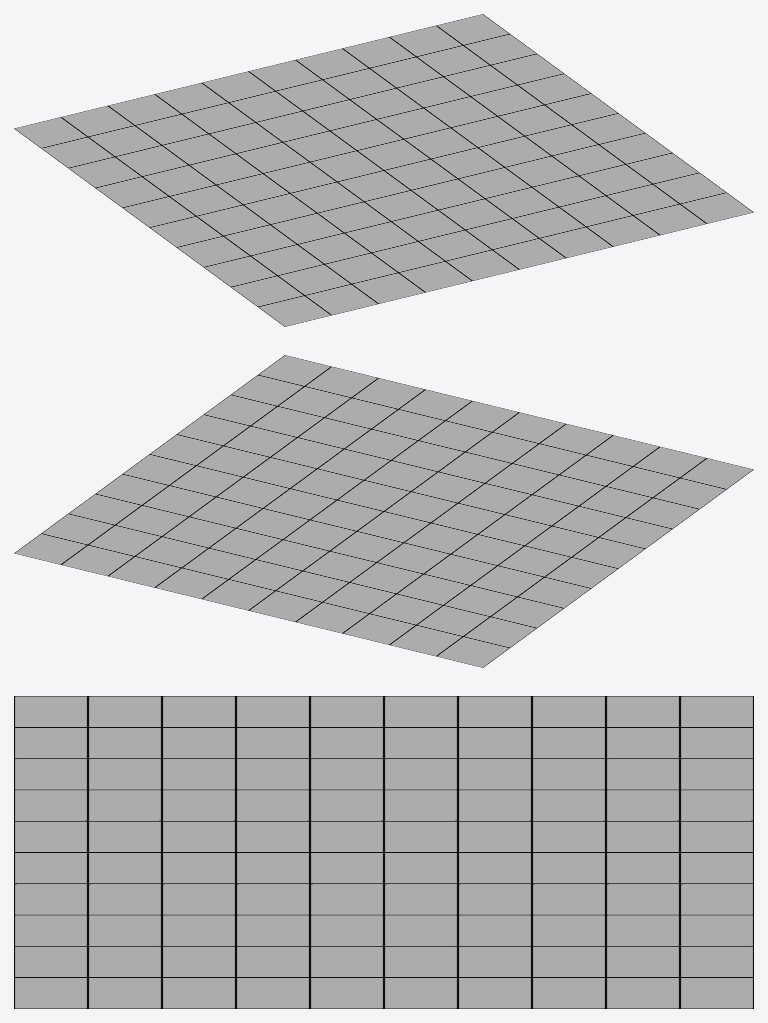
File: floor.gltf
The picture shows the model from 3 angles, top to bottom: view 1: azimuth 30°, elevation 25°; view 2: azimuth 150°, elevation 25°; view 3: azimuth 270°, elevation 25°; orthographic projection. The views are drawn at different scales.
Parts seen in each view (by area): view 1: Floor; view 2: Floor; view 3: Floor.
Part boxes in pixels (x1,y1,x2,y2): Floor: [14, 14, 753, 326]; Floor: [14, 355, 753, 667]; Floor: [14, 696, 753, 1008].
Size of the model in its own units: 10 by 0 by 10.
Materials: 1 (1 with a texture image).
